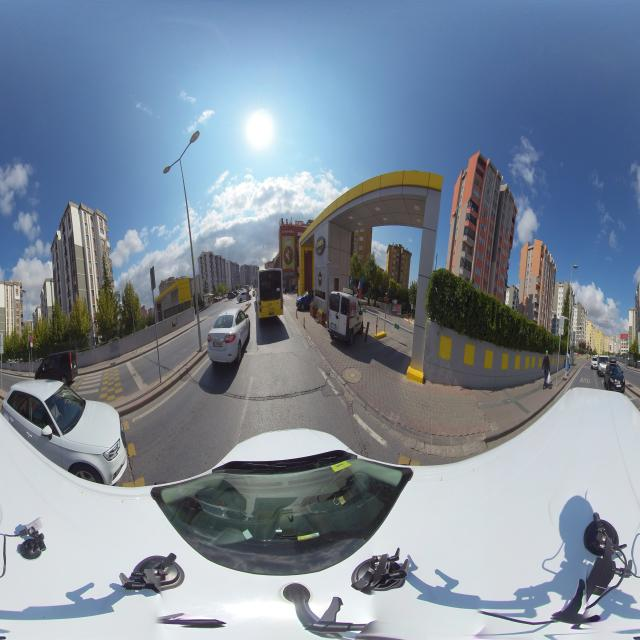SignStore: (282, 271, 296, 277)
